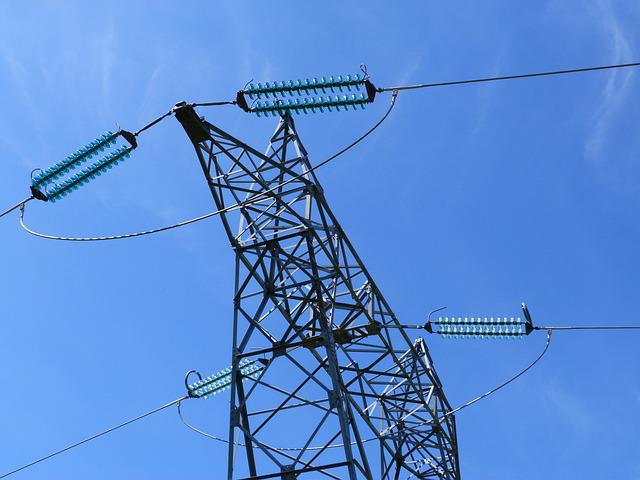isolator: (30, 131, 132, 202), (248, 73, 367, 118), (189, 358, 263, 400), (436, 314, 525, 341)
